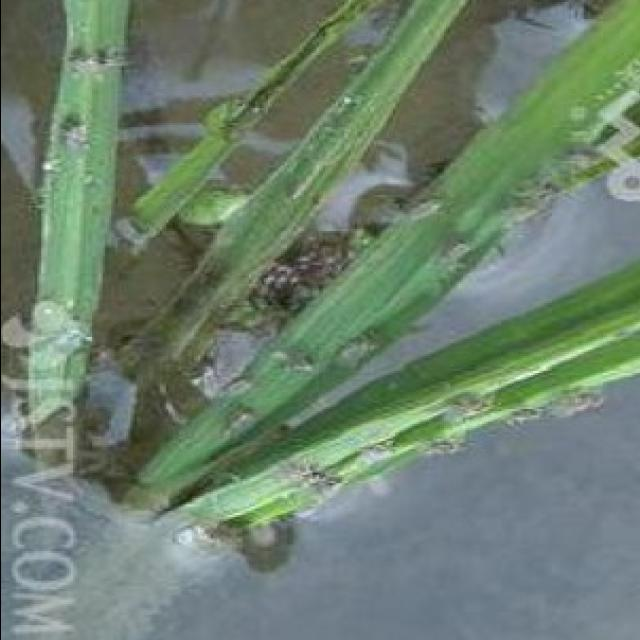brown plant hopper: (223, 227, 371, 331), (70, 49, 129, 72), (547, 392, 604, 415), (445, 394, 492, 415), (403, 201, 443, 218), (426, 439, 466, 454)
